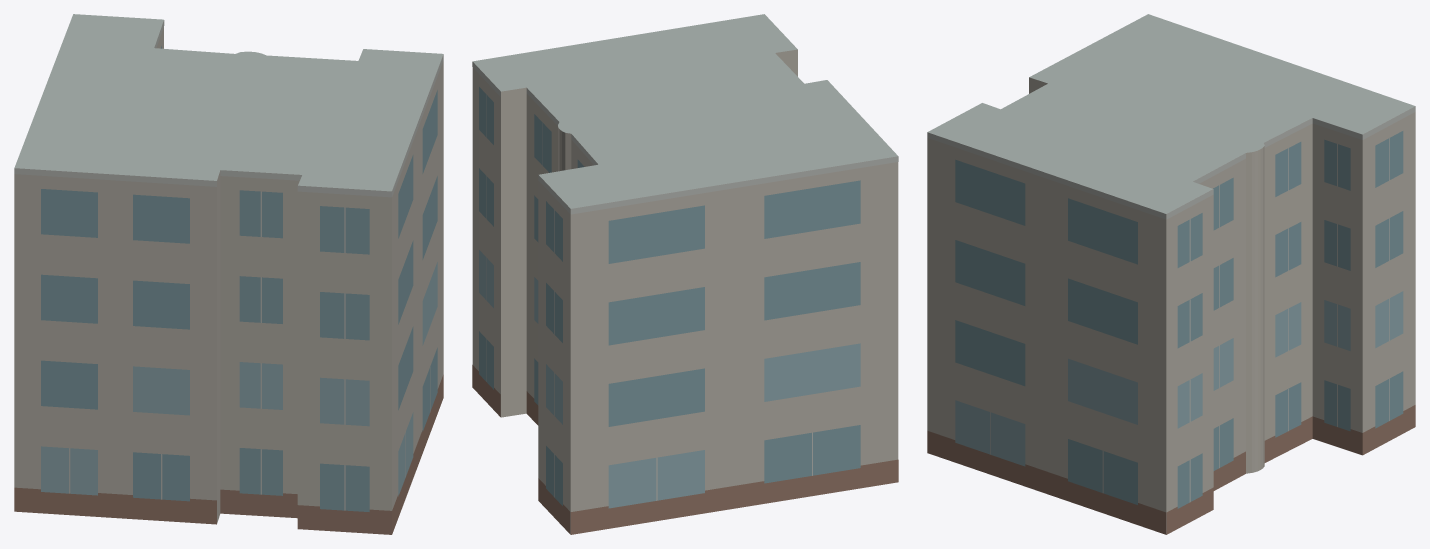
File: survey-upis-32534661.glb
The picture shows the model from 3 angles, left to right: view 1: azimuth 30°, elevation 25°; view 2: azimuth 150°, elevation 25°; view 3: azimuth 270°, elevation 25°; orthographic projection. The views are drawn at different scales.
Parts seen in each view (by area): view 1: survey-upis-32534661.tmp; view 2: survey-upis-32534661.tmp; view 3: survey-upis-32534661.tmp.
Part boxes in pixels (bbox=[...]): survey-upis-32534661.tmp: bbox=[14, 14, 443, 534]; survey-upis-32534661.tmp: bbox=[472, 14, 898, 534]; survey-upis-32534661.tmp: bbox=[927, 14, 1415, 534].
Size of the model in its own units: 18.87 by 14.1 by 19.47.
